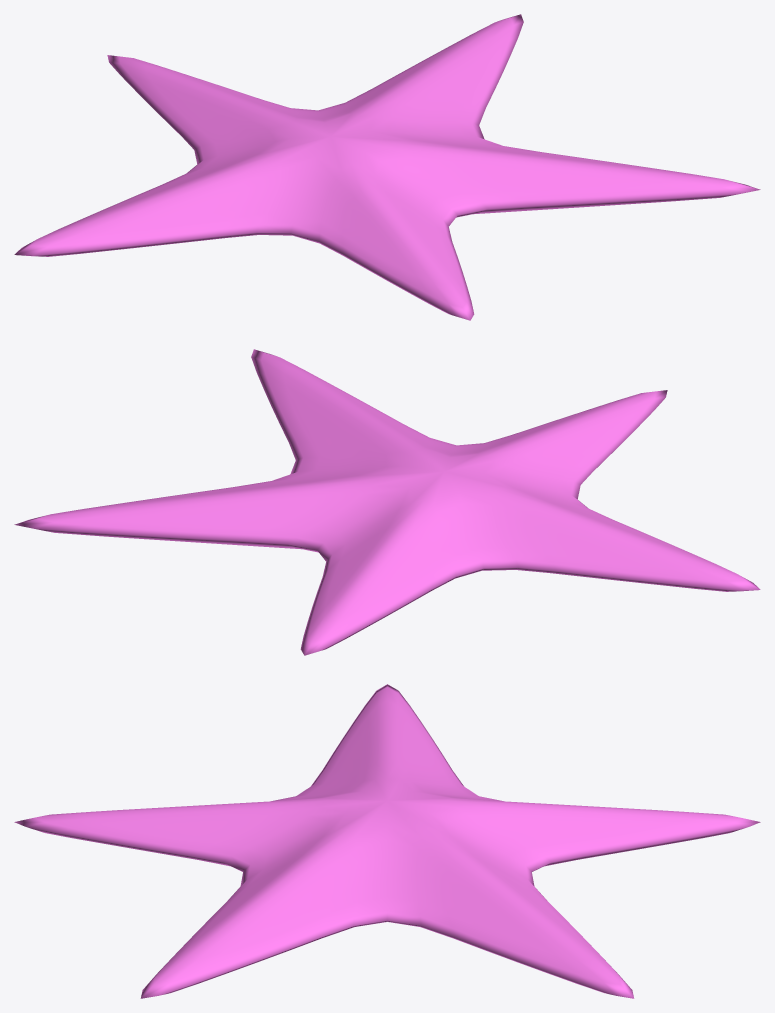
The model's file is SeaStar.fbx.
The picture shows the model from 3 angles, top to bottom: view 1: azimuth 30°, elevation 25°; view 2: azimuth 150°, elevation 25°; view 3: azimuth 270°, elevation 25°; orthographic projection. The views are drawn at different scales.
Parts seen in each view (by area): view 1: Plane; view 2: Plane; view 3: Plane.
Boxes of the visible parts, x1=… form: Plane: x1=14, y1=14, x2=760, y2=320; Plane: x1=14, y1=349, x2=760, y2=655; Plane: x1=14, y1=684, x2=760, y2=998.
Size of the model in its own units: 172 by 21.61 by 173.
